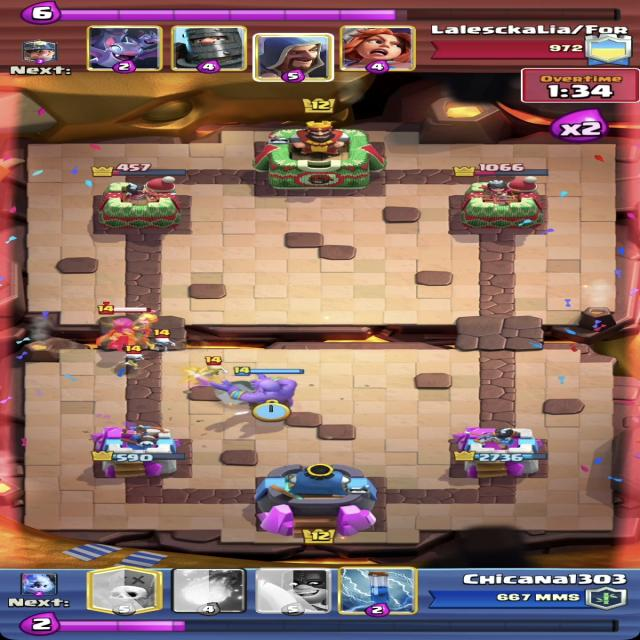Enemy-Skeleton: (120, 345, 146, 370), (150, 329, 176, 351), (204, 356, 227, 378)
Enemy-Witch: (95, 304, 158, 350)
Player-Bowler: (212, 366, 306, 411)
